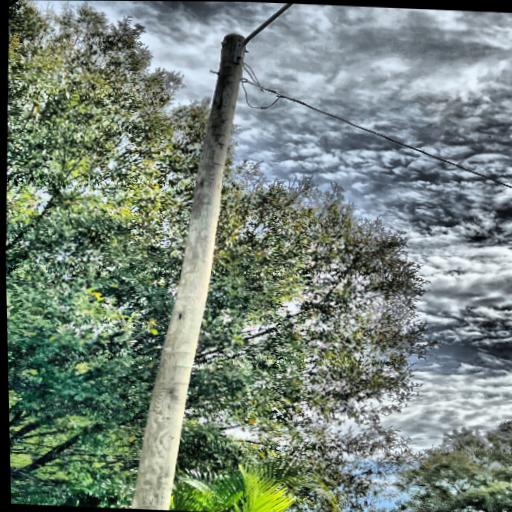pole: (53, 7, 267, 512)
street light: (228, 2, 362, 70)
